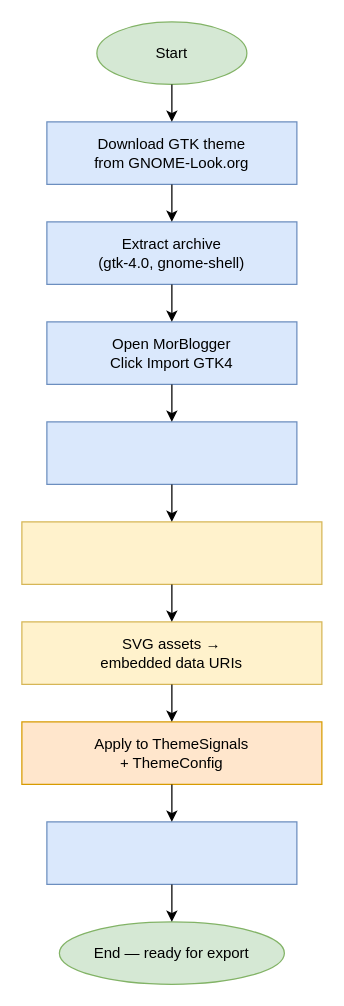
Image size: 344x1006. Some labels were removed from this diagram. The centre of each missing label's shape, as x and y in pixels:
gtk_theme/parser.rs absorb colors + borders: point (171, 552)
Save Imported Theme as Preset: point (171, 852)
Select top-level extracted folder: point (171, 452)
